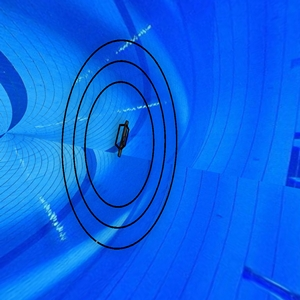circle: (59, 37, 181, 253)
submarine: (114, 120, 134, 161)
